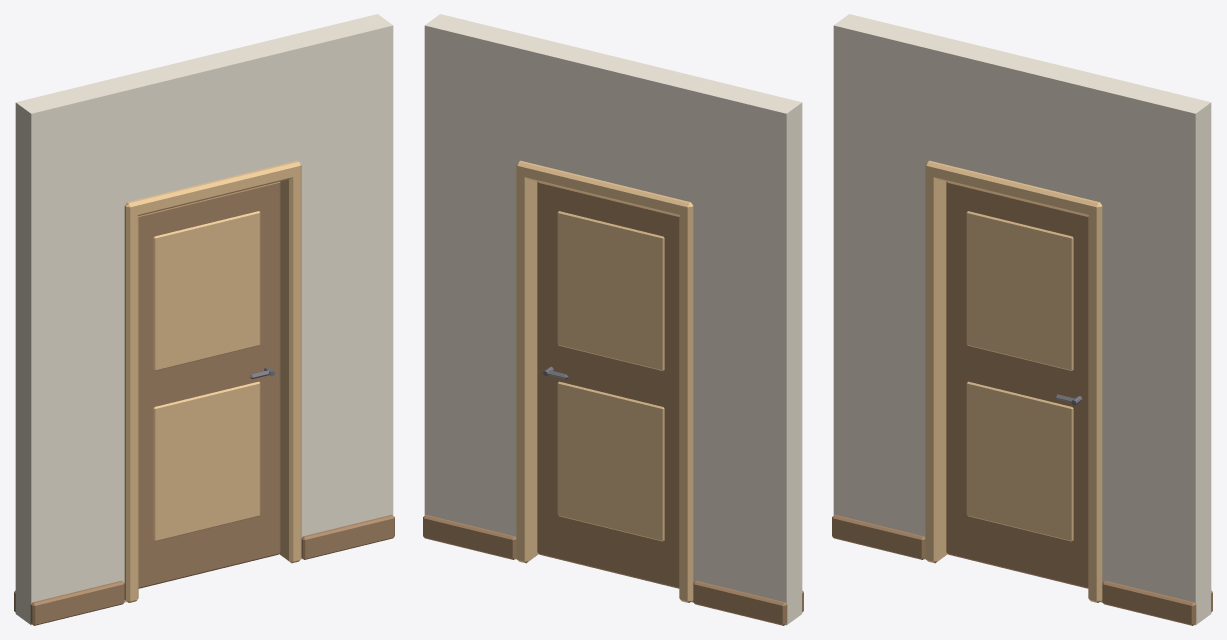
The model's file is cozy-home-interiors-wall-door-2m-cb4fc378.glb.
The picture shows the model from 3 angles, left to right: view 1: azimuth 30°, elevation 25°; view 2: azimuth 150°, elevation 25°; view 3: azimuth 330°, elevation 25°; orthographic projection.
Parts seen in each view (by area): view 1: wall-door-2m, door-oak, door; view 2: wall-door-2m, door-oak, door; view 3: wall-door-2m, door-oak, door.
Boxes of the visible parts, x1,y1,x2,y2 form: wall-door-2m: (14, 14, 394, 625); door-oak: (153, 211, 260, 541); door: (138, 181, 280, 588); wall-door-2m: (423, 14, 803, 625); door-oak: (557, 211, 664, 541); door: (537, 181, 679, 588); wall-door-2m: (832, 14, 1212, 625); door-oak: (966, 211, 1073, 541); door: (946, 181, 1088, 588).
Size of the model in its own units: 2 by 2.7 by 0.2099.
